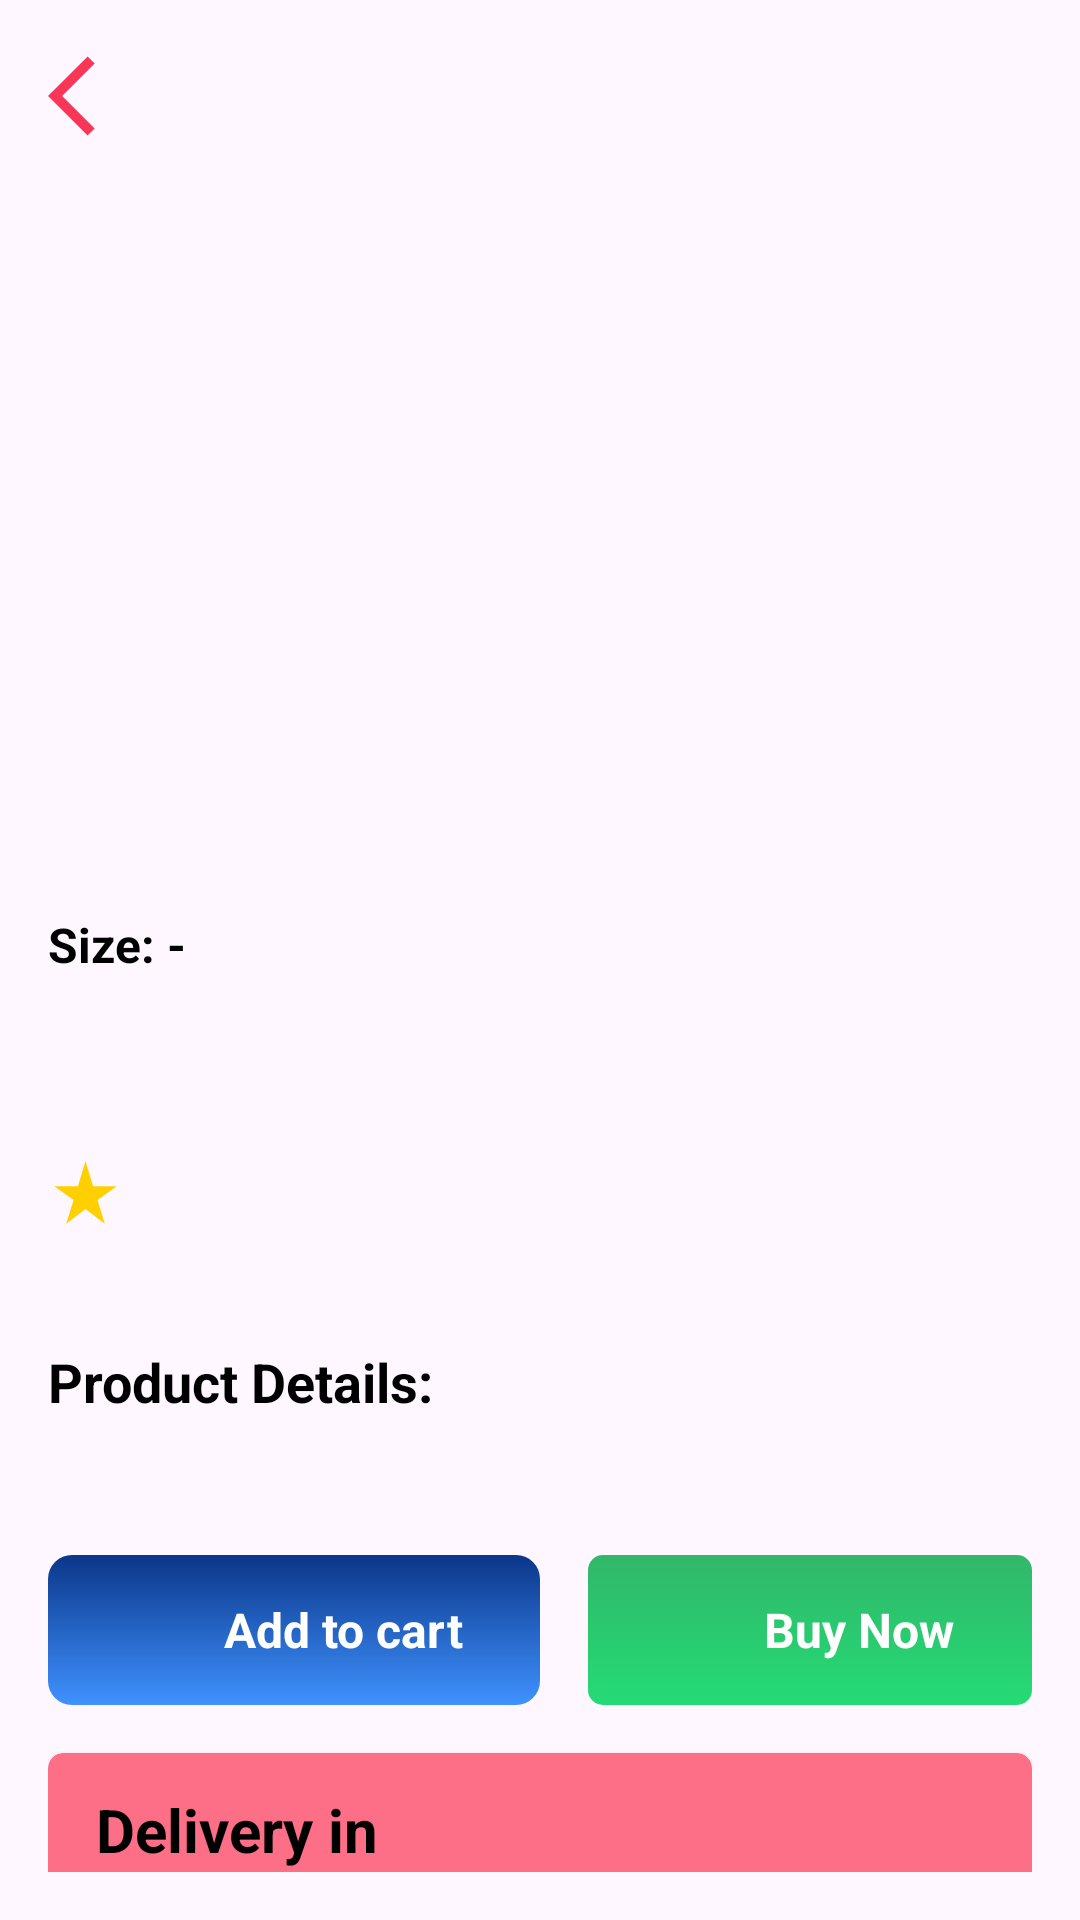

Where icons sit on this 1080px×1920px app screen, as (x1, y1, x2, y2):
back arrow: (48, 56, 95, 136)
star: (54, 1161, 117, 1224)
